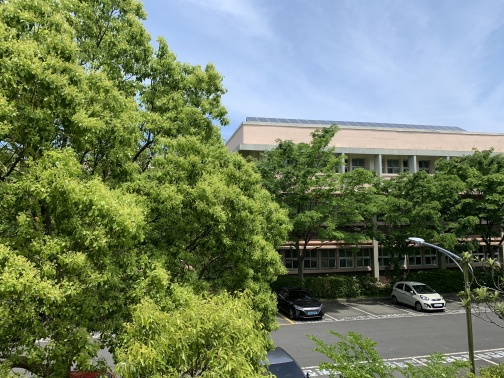College Of Education: (206, 99, 504, 309)
